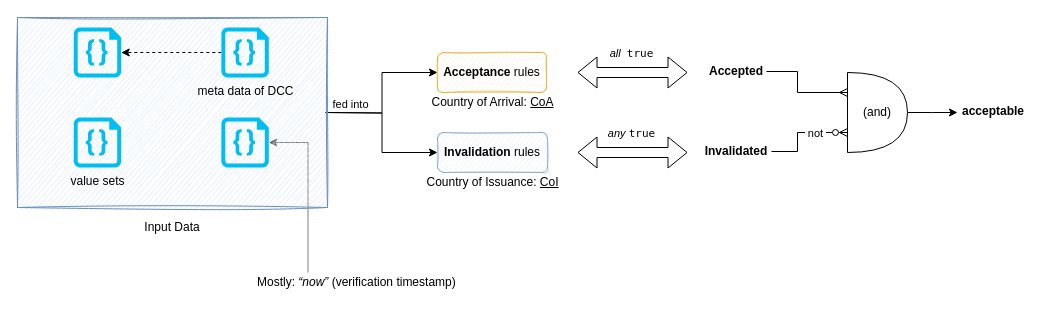
The diagram is 1046 pixels wide and 310 high, and some of its shapes have lost their labels. Each missing label, with the centre of its shape:
"auxiliary external parameters" goes at point (244, 142).
"payload of DCC held" goes at point (97, 52).
